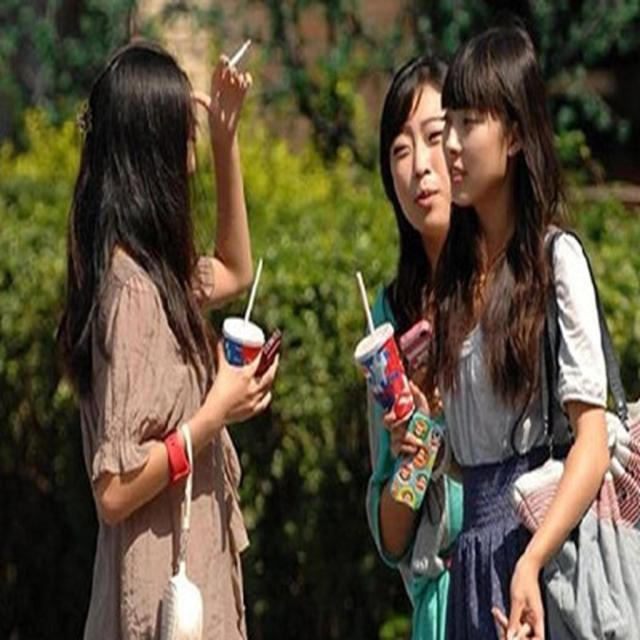smoking: (95, 22, 282, 314)
